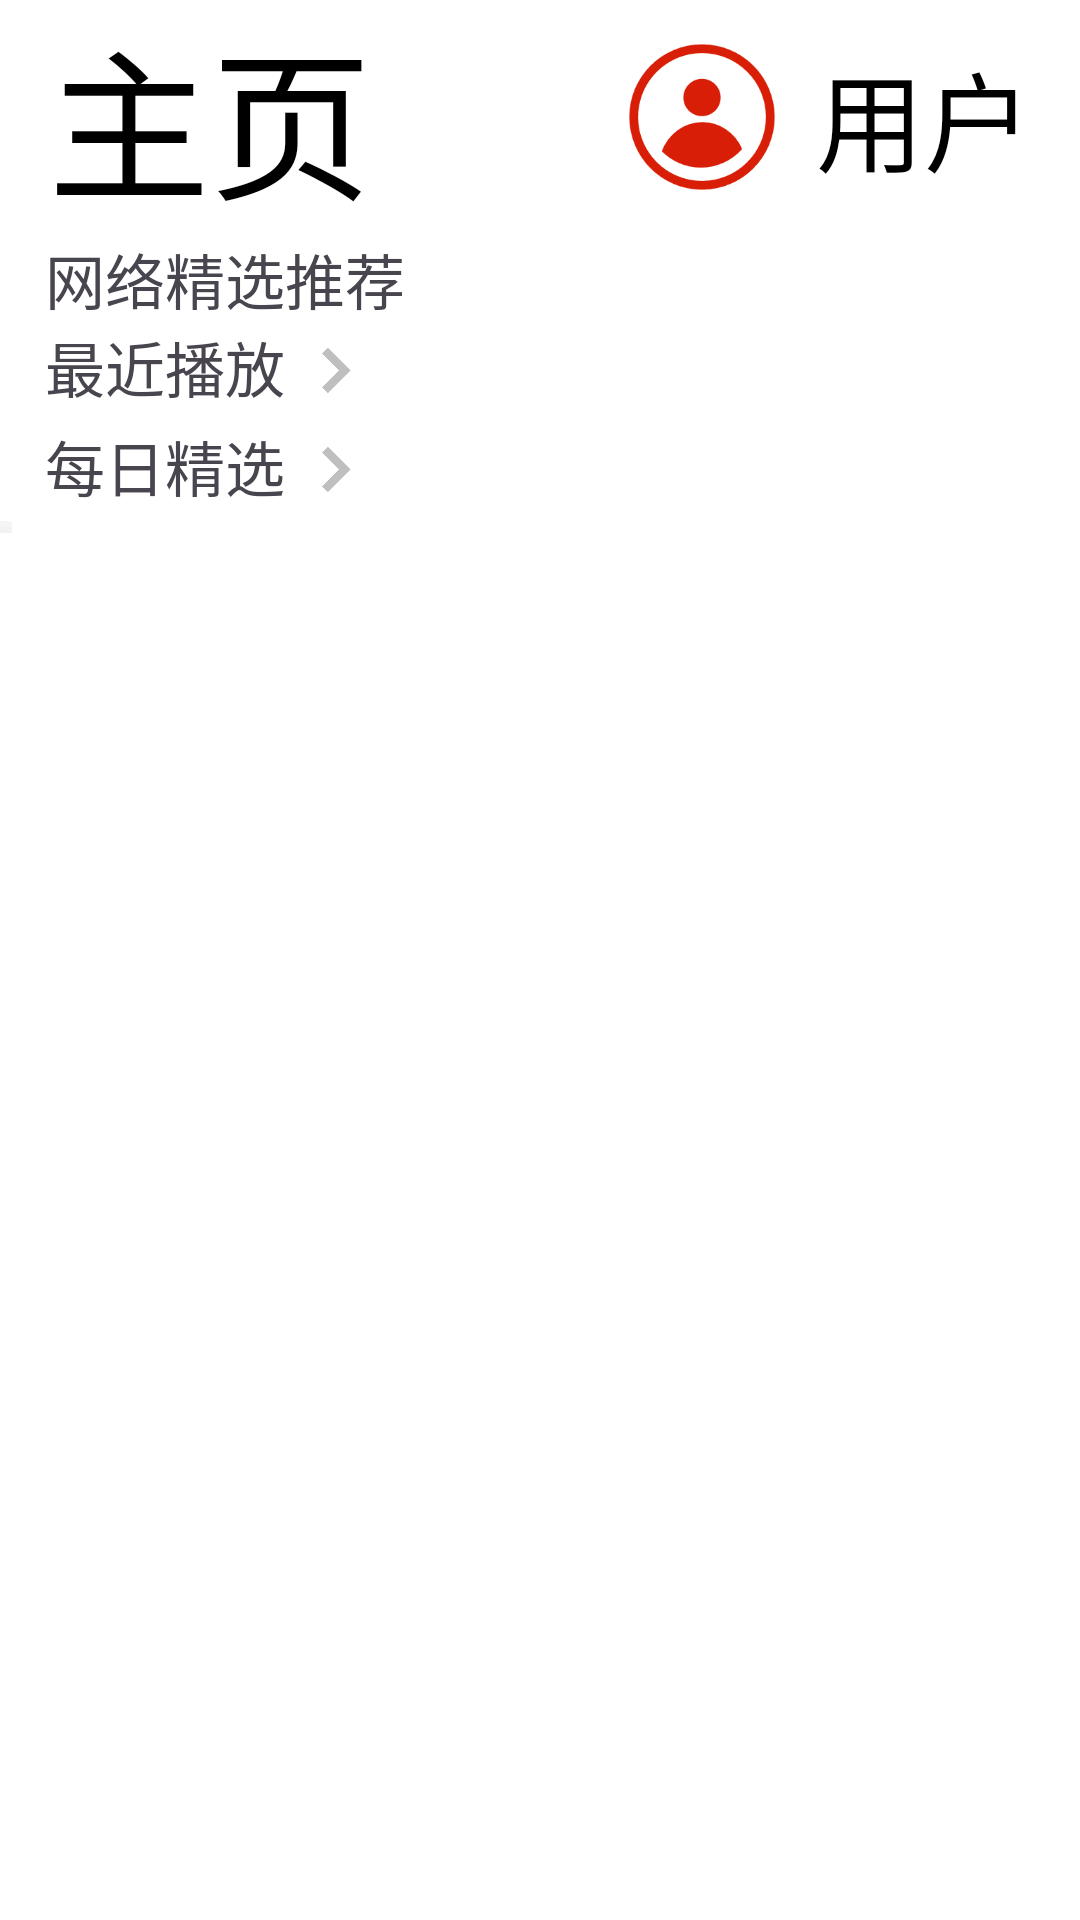

Icon click points for this 1080x1920 phone screenshot, format [x,y]:
arrow: [336,370], [336,469]
yonghu: [702,117]
